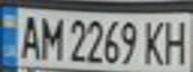2: (63, 15, 87, 63), (84, 16, 106, 65)
6: (103, 17, 124, 65)
9: (118, 17, 142, 65)
A: (15, 11, 42, 61)
H: (160, 16, 193, 65)
K: (139, 17, 169, 66)
M: (36, 12, 63, 61)
